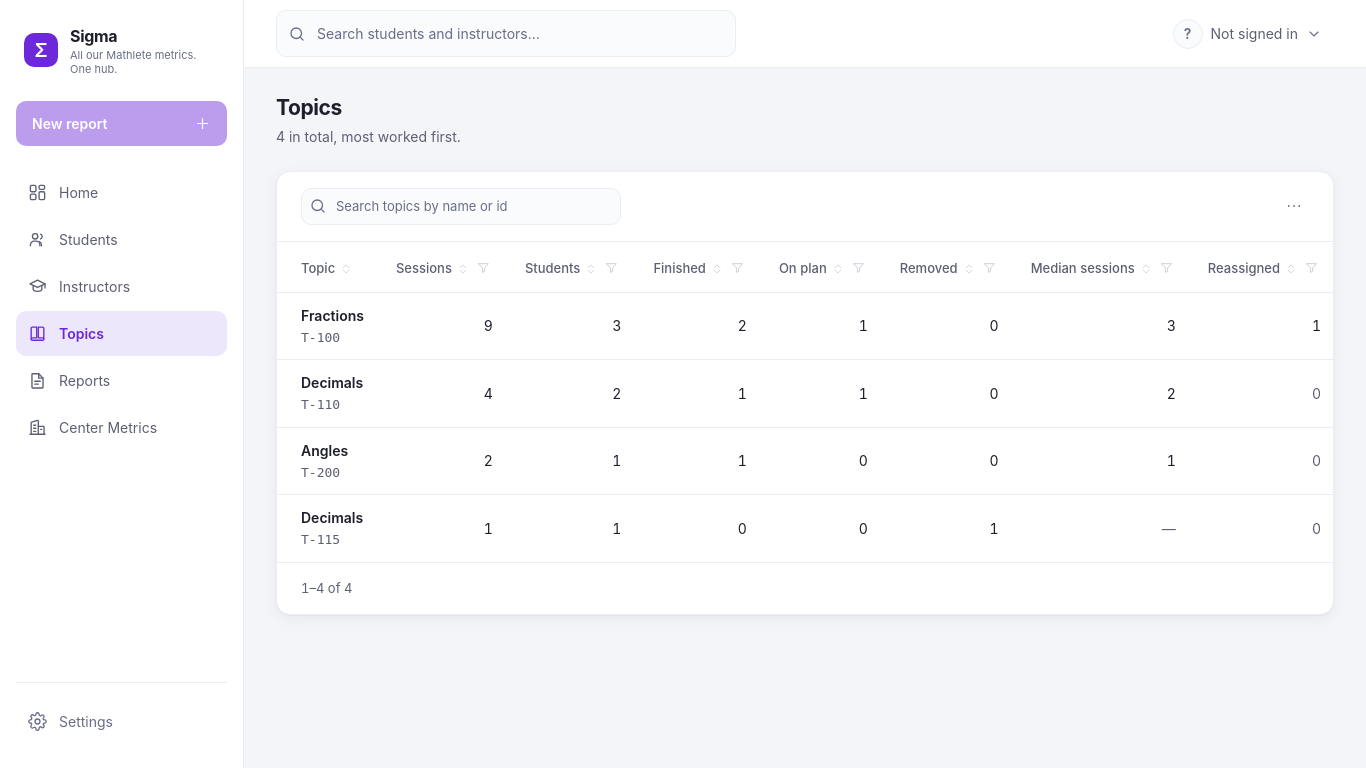
Test: topics page › warns that a median range leaves out the topics that have none
The image size is (1366, 768).
Expected: the link "Fractions" is shown, [301,306,364,324]
Click the button named "filter by median sessions".
click(1166, 268)  # box [1157,258,1176,277]
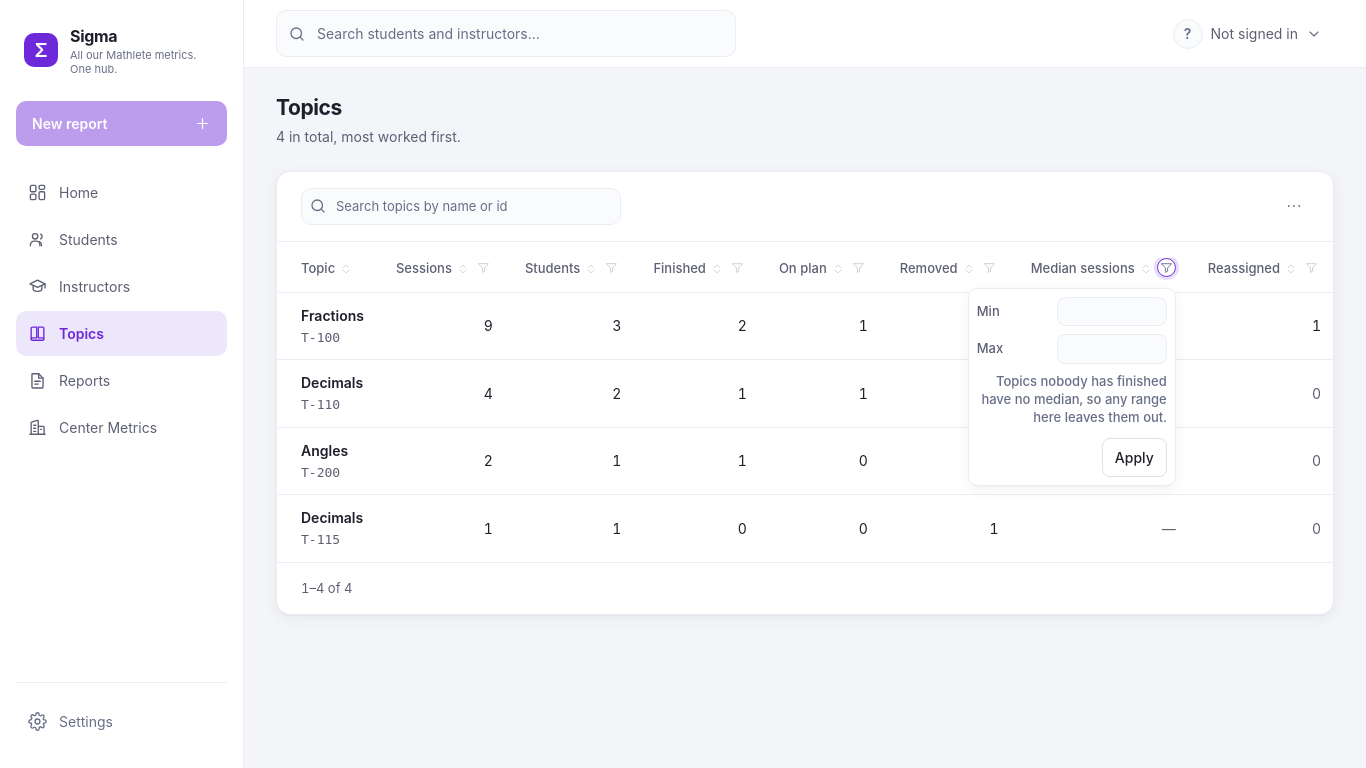
Result: the text "nobody has finished have no median" is shown at [981,372,1167,425]
